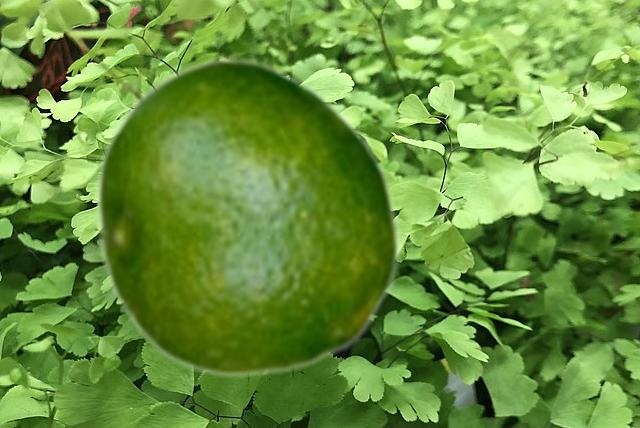calamansi: (93, 55, 402, 378)
